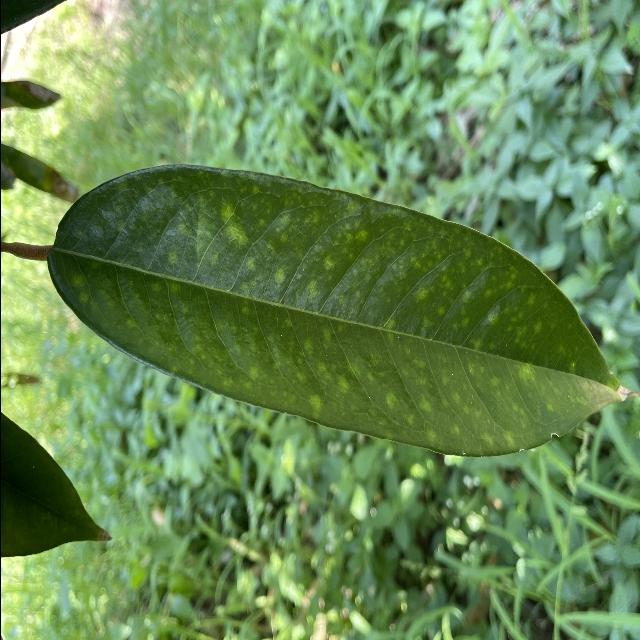Leaf Spot: (41, 161, 640, 463)
